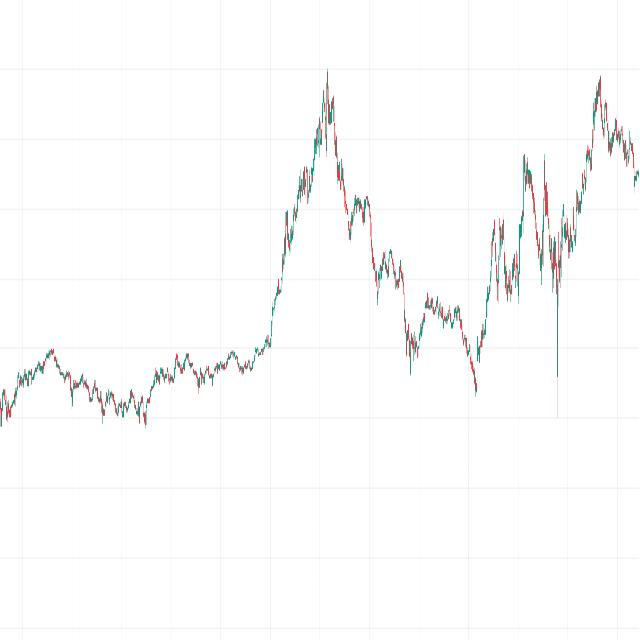Cup-and-handle: (330, 145, 594, 418)
